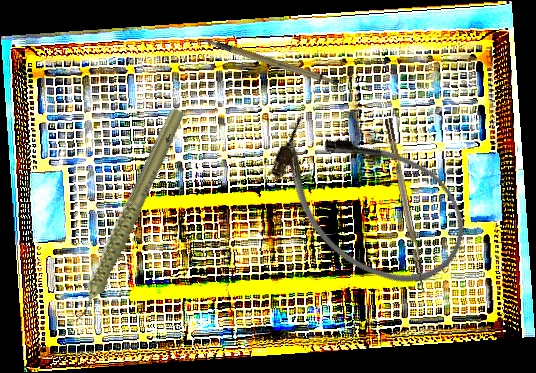Cannula: (247, 91, 488, 311)
Chopper: (384, 116, 436, 300)
Handpiece: (24, 104, 225, 330)
Scalpel Handle: (201, 16, 342, 104)
